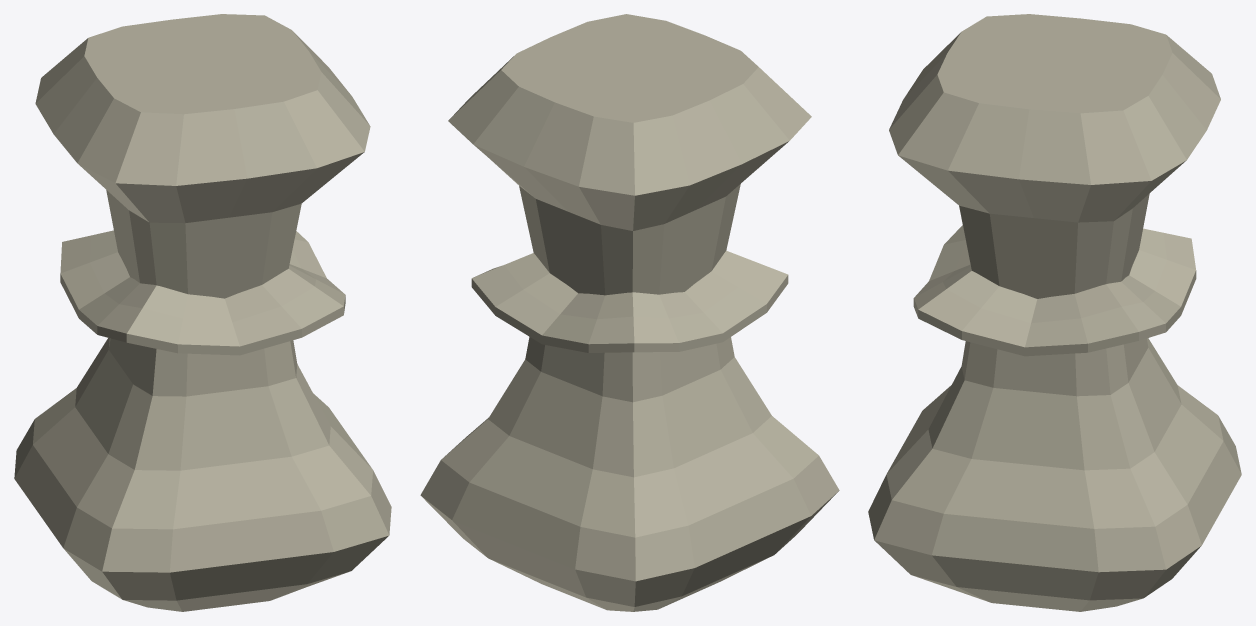
File: mushroom_harvested.glb
3 renders of one model, left to right at view 1: azimuth 30°, elevation 25°; view 2: azimuth 150°, elevation 25°; view 3: azimuth 270°, elevation 25°, orthographic.
Visible parts, largest first — view 1: Mushroom_Harvested; view 2: Mushroom_Harvested; view 3: Mushroom_Harvested.
Boxes of the visible parts, x1=… form: Mushroom_Harvested: x1=14, y1=14, x2=391, y2=611; Mushroom_Harvested: x1=420, y1=14, x2=839, y2=611; Mushroom_Harvested: x1=868, y1=14, x2=1241, y2=611.
Bounding box in the file's own units: 0.191 × 0.2947 × 0.191.
